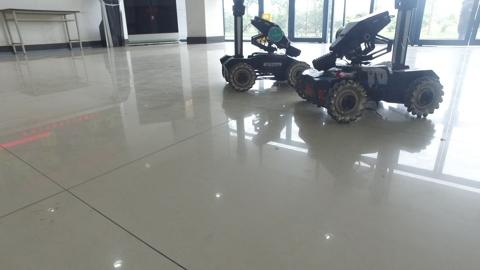chariot: (301, 1, 446, 122), (213, 1, 318, 95)
